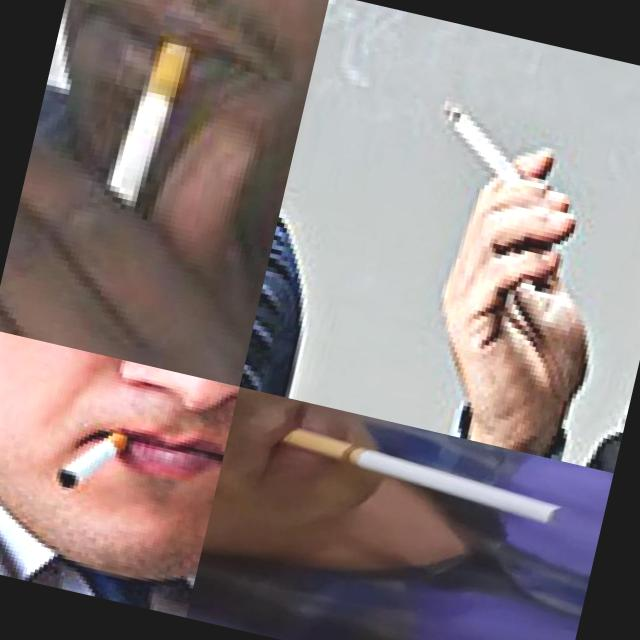cigarette: (277, 426, 566, 528), (102, 9, 203, 218), (426, 100, 546, 200), (48, 411, 130, 495)
